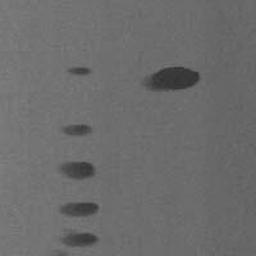Oil spot: (138, 65, 202, 95), (45, 225, 100, 256), (55, 160, 97, 183), (56, 201, 101, 219), (56, 122, 95, 138), (65, 64, 95, 77)
